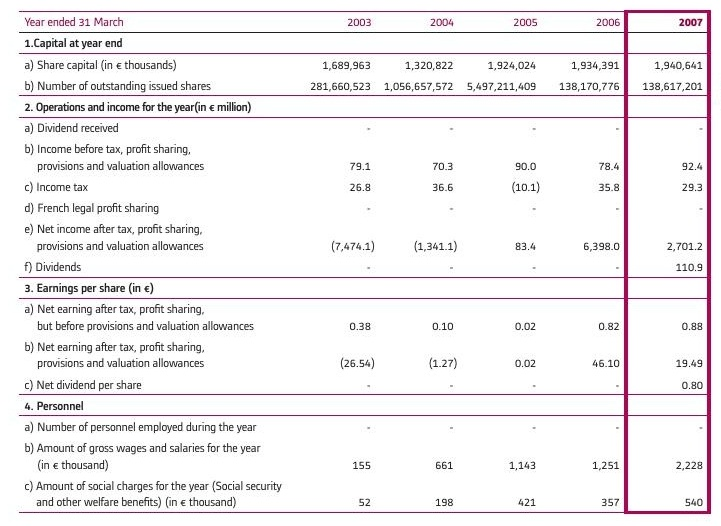table: (0, 0, 721, 526)
